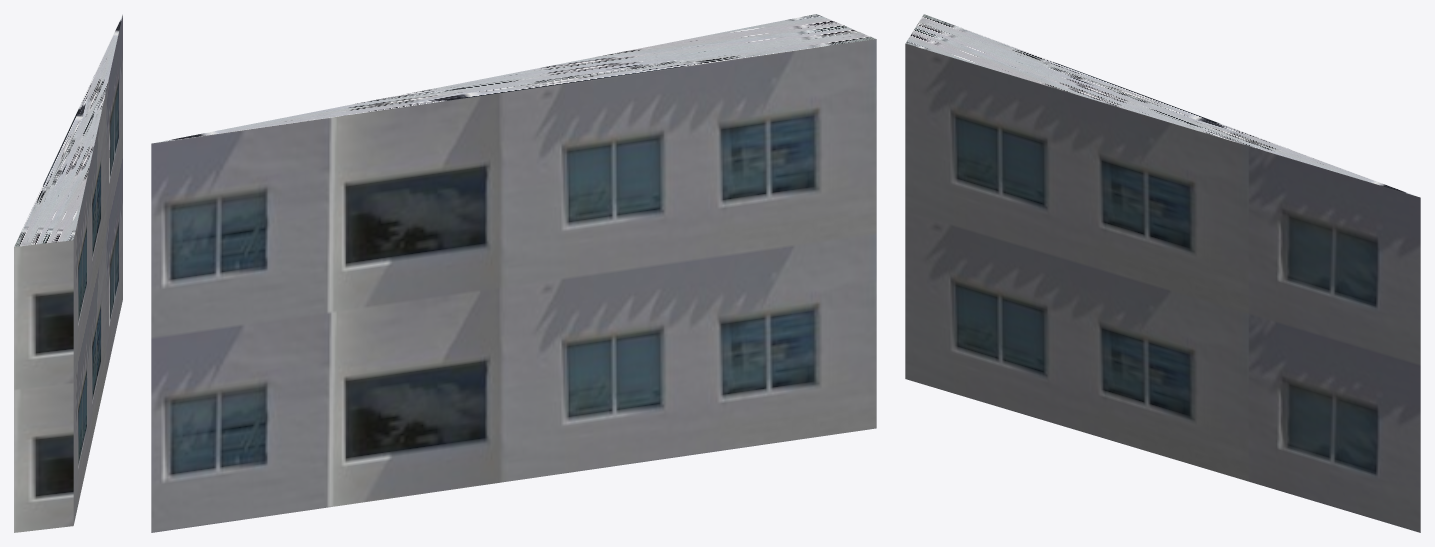
The model's file is ResTex__1981.fbx.
3 views of the same model, side by side, from view 1: azimuth 30°, elevation 25°; view 2: azimuth 150°, elevation 25°; view 3: azimuth 270°, elevation 25° (orthographic). The views are drawn at different scales.
Parts seen in each view (by area): view 1: CityEngineMaterial_10_m, CityEngineMaterial_8_m; view 2: CityEngineMaterial_10_m, CityEngineMaterial_8_m; view 3: CityEngineMaterial_10_m, CityEngineMaterial_8_m.
Part boxes in pixels (x1,y1,x2,y2): CityEngineMaterial_10_m: (14,15,122,532); CityEngineMaterial_8_m: (14,15,122,246); CityEngineMaterial_10_m: (151,39,876,532); CityEngineMaterial_8_m: (153,14,875,143); CityEngineMaterial_10_m: (905,43,1420,532); CityEngineMaterial_8_m: (905,14,1418,196).
Size of the model in its own units: 7.04 by 6 by 8.35.
2 materials, 2 textured.
